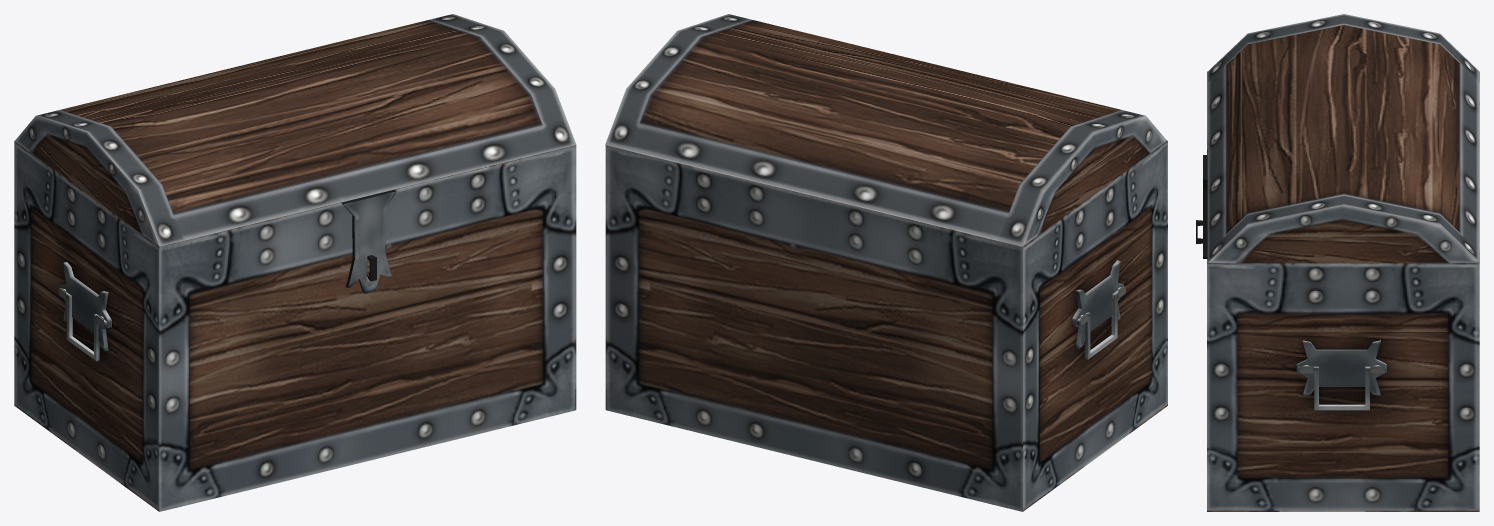
Rendered from MedievalChest_03_closed.fbx.
The picture shows the model from 3 angles, left to right: view 1: azimuth 30°, elevation 25°; view 2: azimuth 150°, elevation 25°; view 3: azimuth 270°, elevation 25°; orthographic projection. The views are drawn at different scales.
Parts seen in each view (by area): view 1: Medieval_chest_03_closed; view 2: Medieval_chest_03_closed; view 3: Medieval_chest_03_closed.
Boxes of the visible parts, left/top/right/bottom form: Medieval_chest_03_closed: left=14, top=14, right=576, bottom=511; Medieval_chest_03_closed: left=605, top=14, right=1167, bottom=511; Medieval_chest_03_closed: left=1196, top=14, right=1479, bottom=511.
Bounding box in the file's own units: 34.77 × 25.23 × 21.15.
